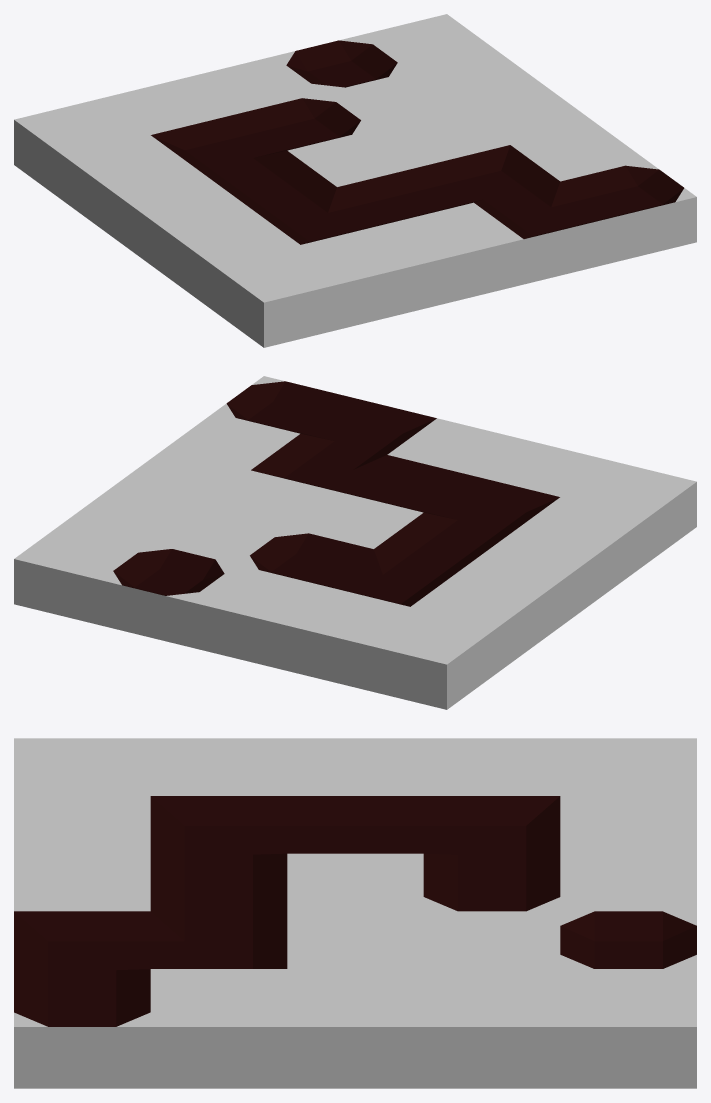
3 renders of one model, top to bottom at view 1: azimuth 30°, elevation 25°; view 2: azimuth 150°, elevation 25°; view 3: azimuth 270°, elevation 25°, orthographic. The views are drawn at different scales.
Parts seen in each view (by area): view 1: foil.block.0.0_block.11442, foil.ending.4.0_ending.1348, foil.block.1.0_block.11447, foil.block.2.0_block.11449, foil.corner.3.0_corner.3382, foil.block.0.2_block.11444, foil.block.0.3_block.11445, foil.block.0.4_block.11446, foil.block.0.1_block.11443, foil.corner.3.1_corner.3383, foil.ending.2.3_ending.1347, foil.corner.1.3_corner.3381 (+13 smaller); view 2: foil.block.0.4_block.11446, foil.block.3.4_Cube.025, foil.block.1.4_block.11448, foil.block.4.4_block.11458, foil.block.2.4_block.11451, foil.block.0.0_block.11442, foil.block.0.1_block.11443, foil.block.0.2_block.11444, foil.block.0.3_block.11445, foil.ending.4.0_ending.1348, foil.ending.2.3_ending.1347, foil.corner.1.1_corner.3380 (+13 smaller); view 3: foil.block.4.1_block.11455, foil.block.4.3_block.11457, foil.block.4.2_block.11456, foil.block.4.4_block.11458, foil.ending.4.0_ending.1348, foil.corner.3.0_corner.3382, foil.corner.1.1_corner.3380, foil.corner.1.3_corner.3381, foil.block.2.0_block.11449, foil.block.2.2_block.11450, foil.block.2.4_block.11451, foil.through.2.1_through.661 (+13 smaller).
Boxes of the visible parts, left/top/right/bottom form: foil.block.0.0_block.11442: left=214, top=245, right=350, bottom=347; foil.ending.4.0_ending.1348: left=560, top=160, right=696, bottom=263; foil.block.1.0_block.11447: left=301, top=224, right=437, bottom=326; foil.block.2.0_block.11449: left=387, top=202, right=523, bottom=305; foil.corner.3.0_corner.3382: left=474, top=181, right=610, bottom=284; foil.block.0.2_block.11444: left=114, top=172, right=249, bottom=274; foil.block.0.3_block.11445: left=64, top=135, right=200, bottom=237; foil.block.0.4_block.11446: left=14, top=98, right=149, bottom=201; foil.block.0.1_block.11443: left=164, top=208, right=299, bottom=310; foil.corner.3.1_corner.3383: left=424, top=145, right=559, bottom=208; foil.ending.2.3_ending.1347: left=237, top=93, right=373, bottom=152; foil.corner.1.3_corner.3381: left=151, top=114, right=286, bottom=177; foil.block.0.4_block.11446: left=360, top=607, right=496, bottom=709; foil.block.3.4_Cube.025: left=100, top=543, right=236, bottom=646; foil.block.1.4_block.11448: left=273, top=586, right=409, bottom=688; foil.block.4.4_block.11458: left=14, top=522, right=150, bottom=625; foil.block.2.4_block.11451: left=187, top=564, right=323, bottom=667; foil.block.0.0_block.11442: left=561, top=460, right=696, bottom=563; foil.block.0.1_block.11443: left=510, top=497, right=646, bottom=599; foil.block.0.2_block.11444: left=461, top=534, right=596, bottom=636; foil.block.0.3_block.11445: left=411, top=570, right=546, bottom=672; foil.ending.4.0_ending.1348: left=214, top=376, right=350, bottom=435; foil.ending.2.3_ending.1347: left=237, top=528, right=373, bottom=587; foil.corner.1.1_corner.3380: left=424, top=476, right=559, bottom=539; foil.block.4.1_block.11455: left=150, top=969, right=287, bottom=1088; foil.block.4.3_block.11457: left=423, top=969, right=560, bottom=1088; foil.block.4.2_block.11456: left=287, top=969, right=423, bottom=1088; foil.block.4.4_block.11458: left=560, top=969, right=696, bottom=1088; foil.ending.4.0_ending.1348: left=14, top=969, right=150, bottom=1088; foil.corner.3.0_corner.3382: left=14, top=911, right=150, bottom=984; foil.corner.1.1_corner.3380: left=150, top=796, right=287, bottom=868; foil.corner.1.3_corner.3381: left=423, top=796, right=560, bottom=868; foil.block.2.0_block.11449: left=14, top=853, right=150, bottom=911; foil.block.2.2_block.11450: left=287, top=853, right=423, bottom=911; foil.block.2.4_block.11451: left=560, top=853, right=696, bottom=911; foil.through.2.1_through.661: left=150, top=854, right=287, bottom=926.
Bounding box in the file's own units: 10 × 1 × 10.
